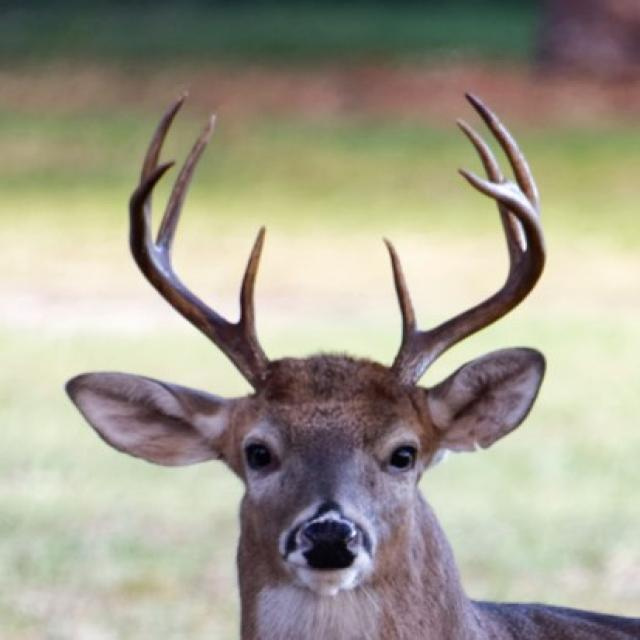L-F: (391, 167, 548, 385)
L-G1: (382, 236, 421, 344)
R-F: (129, 160, 272, 391)
R-G1: (238, 224, 267, 339)
R-G2: (154, 112, 219, 269)
